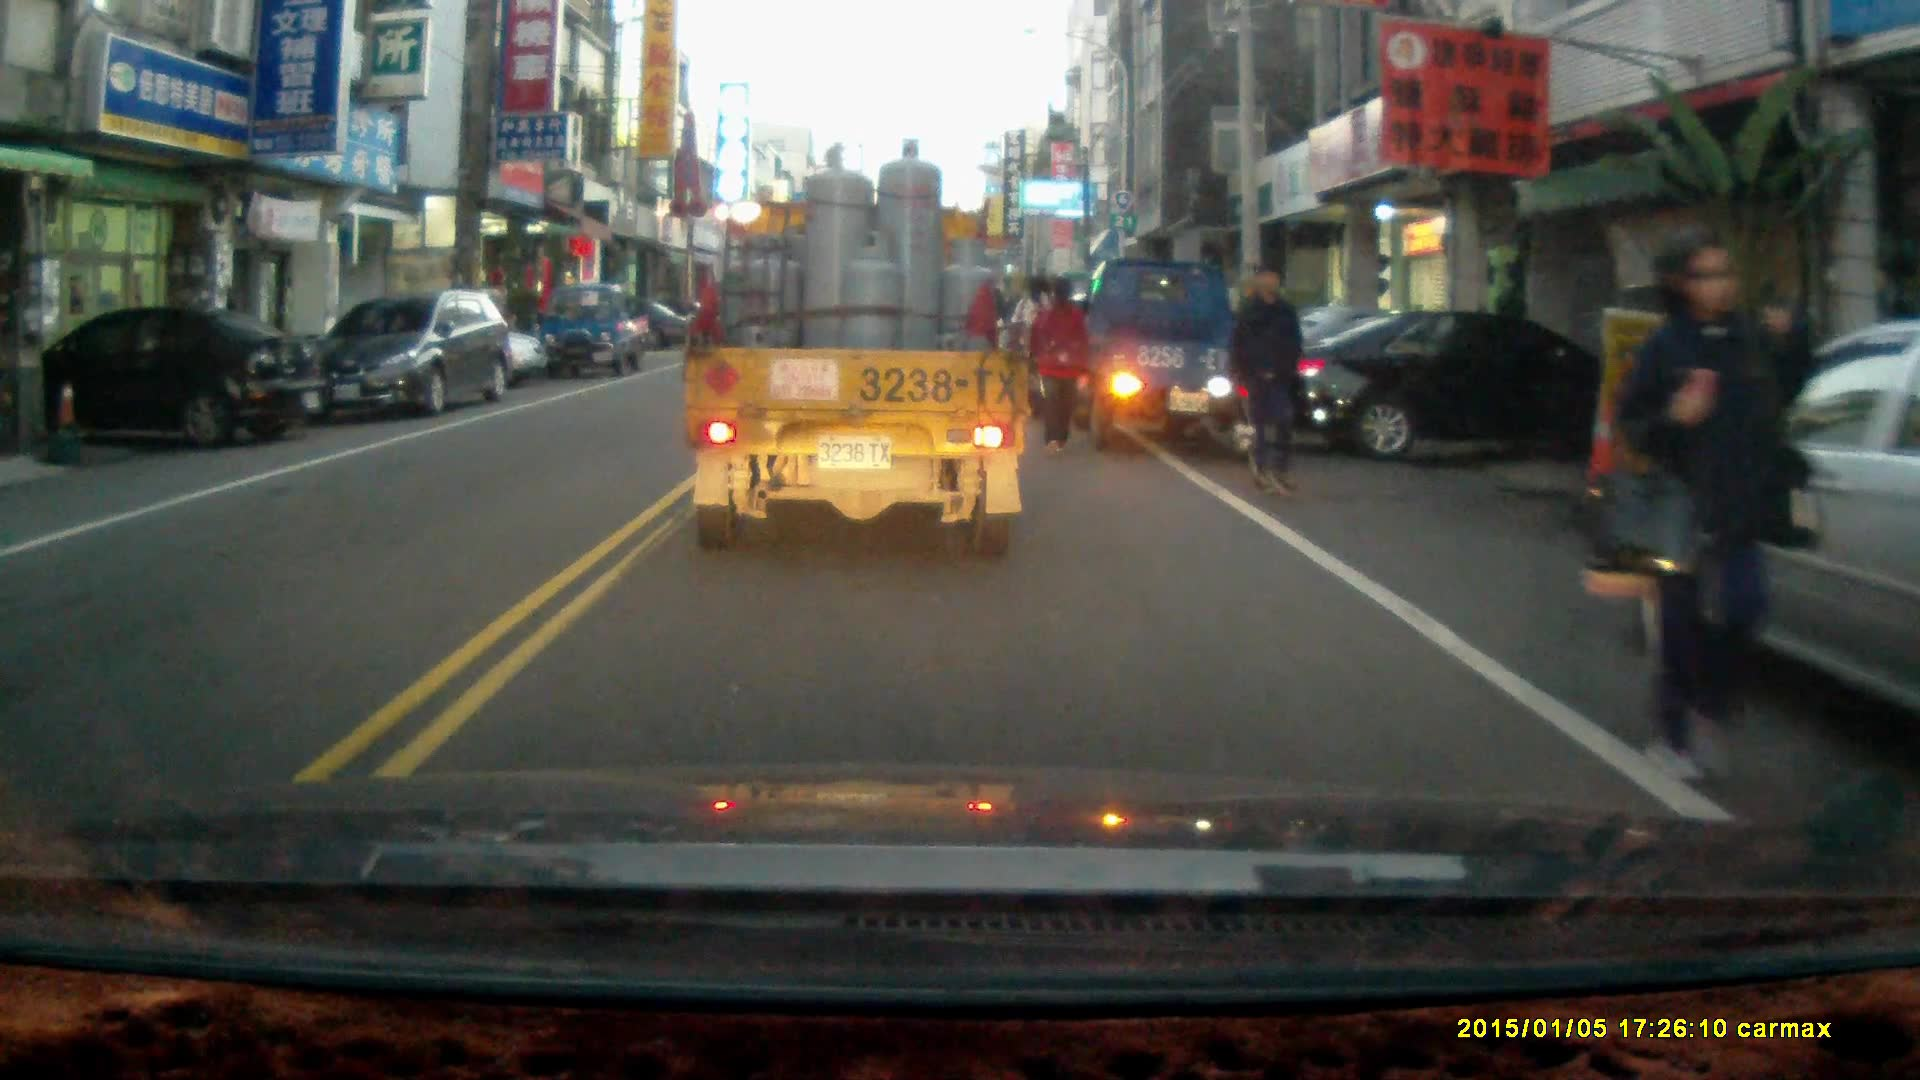pedestrian: (1620, 229, 1818, 794), (1225, 258, 1307, 497), (1026, 269, 1089, 457)
vehicle: (679, 136, 1033, 566), (1611, 335, 1920, 716), (1268, 302, 1608, 479), (1, 303, 334, 452), (1079, 257, 1301, 461), (303, 290, 523, 422), (539, 278, 653, 377)
